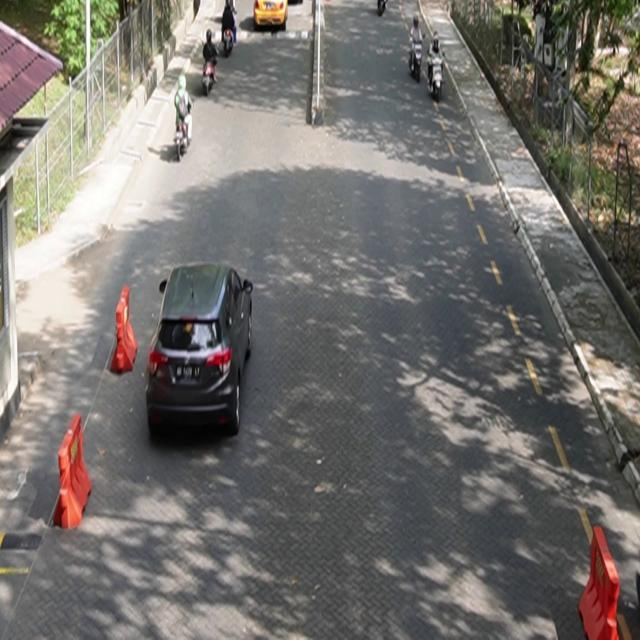car: (146, 262, 254, 438)
